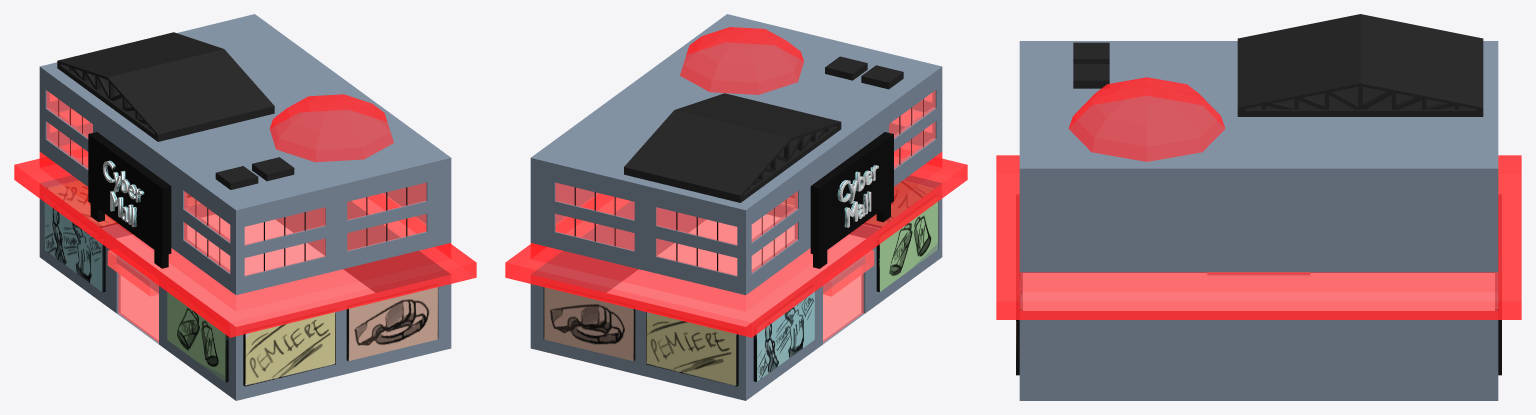
File: Mall.fbx
3 views of the same model, side by side, from view 1: azimuth 30°, elevation 25°; view 2: azimuth 150°, elevation 25°; view 3: azimuth 270°, elevation 25° (orthographic). The views are drawn at different scales.
Visible parts, largest first — view 1: redMall; view 2: redMall; view 3: redMall.
Part boxes in pixels (box(x1,y1,x2,y2)): redMall: box(14, 14, 476, 400); redMall: box(505, 14, 967, 400); redMall: box(996, 14, 1521, 400).
Bounding box in the file's own units: 2470 × 2143 × 3737.
Materials: 9 (4 with a texture image).
